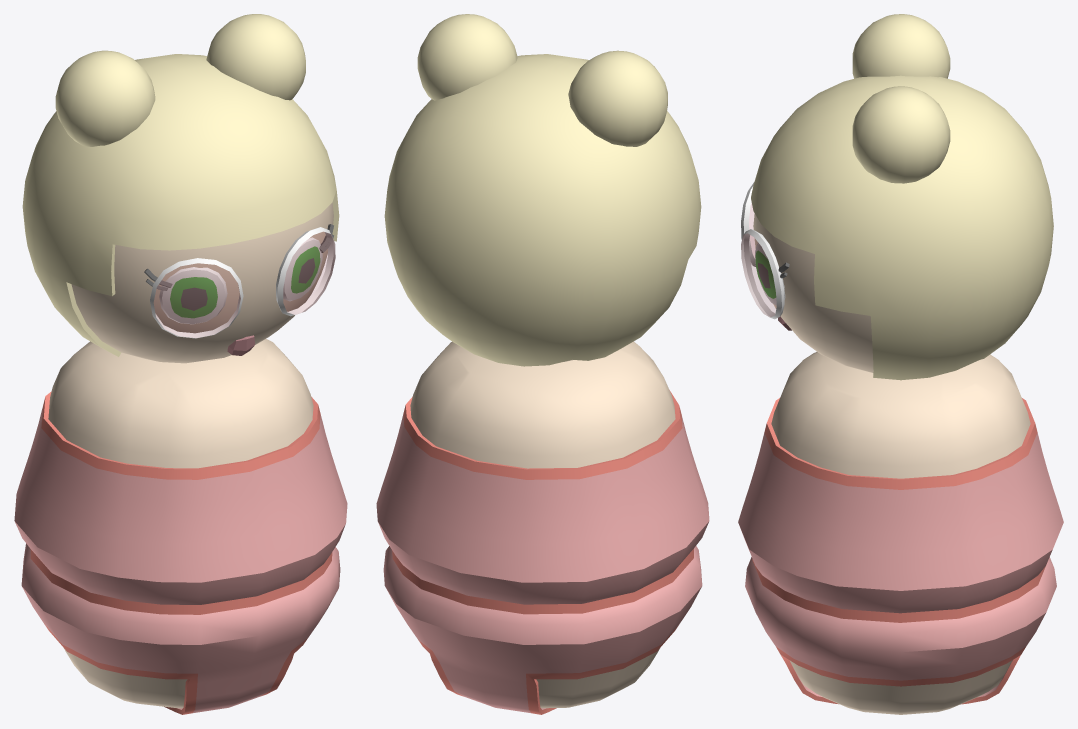
File: ponpon.fbx
3 views of the same model, side by side, from view 1: azimuth 30°, elevation 25°; view 2: azimuth 150°, elevation 25°; view 3: azimuth 270°, elevation 25° (orthographic).
Parts seen in each view (by area): view 1: Cube.031; view 2: Cube.031; view 3: Cube.031.
Part boxes in pixels (box(x1,y1,x2,y2)): Cube.031: box(14, 14, 347, 714); Cube.031: box(376, 14, 709, 714); Cube.031: box(738, 14, 1063, 714).
Bounding box in the file's own units: 176 × 379 × 176.
